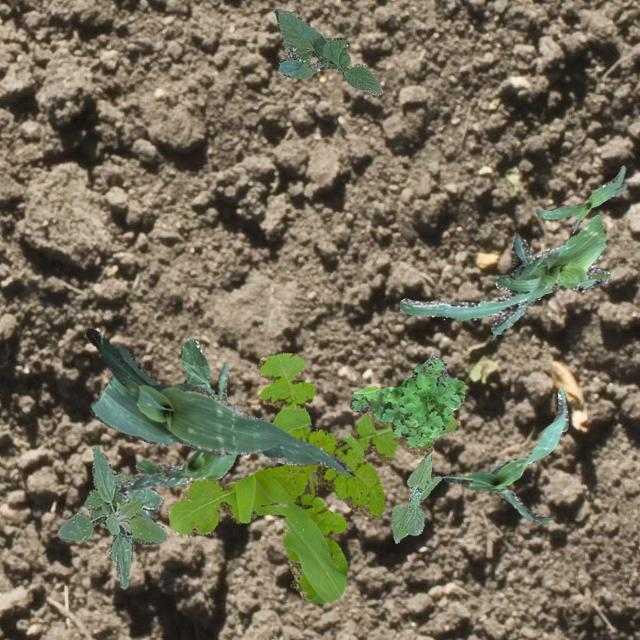crop: (85, 328, 352, 476), (398, 214, 610, 338), (442, 388, 568, 522), (56, 446, 166, 588), (120, 362, 236, 492), (274, 6, 382, 94), (536, 164, 626, 232), (390, 451, 440, 542), (180, 338, 218, 398)
weed: (168, 352, 458, 602), (348, 352, 464, 447)
